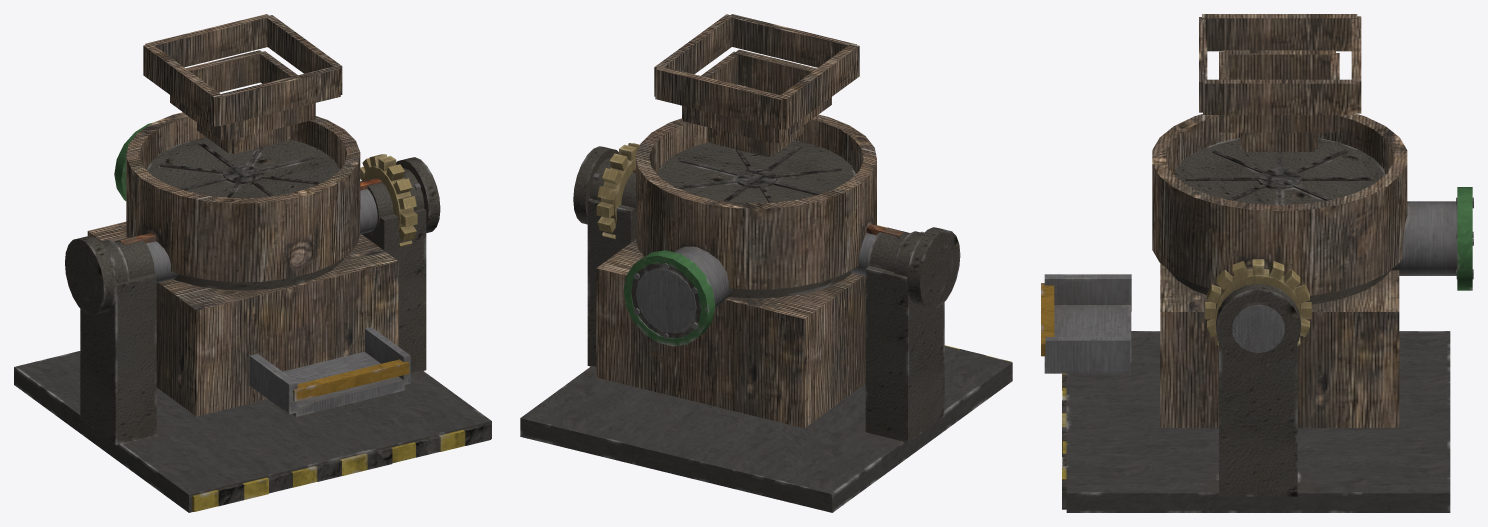
File: feMill_HD.fbx
The picture shows the model from 3 angles, left to right: view 1: azimuth 30°, elevation 25°; view 2: azimuth 150°, elevation 25°; view 3: azimuth 270°, elevation 25°; orthographic projection. The views are drawn at different scales.
Parts seen in each view (by area): view 1: feMill_Base, FeSpin_DriveShaft, FeSpin_x0.5_Runner; view 2: feMill_Base, FeSpin_x0.5_Runner, FeSpin_DriveShaft; view 3: feMill_Base, FeSpin_x0.5_Runner, FeSpin_DriveShaft.
Part boxes in pixels (bbox=[...]): feMill_Base: bbox=[14, 14, 491, 512]; FeSpin_DriveShaft: bbox=[65, 154, 440, 315]; FeSpin_x0.5_Runner: bbox=[147, 137, 339, 197]; feMill_Base: bbox=[520, 14, 1012, 512]; FeSpin_x0.5_Runner: bbox=[657, 140, 855, 202]; FeSpin_DriveShaft: bbox=[573, 143, 960, 309]; feMill_Base: bbox=[1041, 14, 1473, 512]; FeSpin_x0.5_Runner: bbox=[1174, 138, 1385, 205]; FeSpin_DriveShaft: bbox=[1205, 259, 1311, 367].
Bounding box in the file's own units: 1 × 0.993 × 1.02.
1 material, 1 textured.
